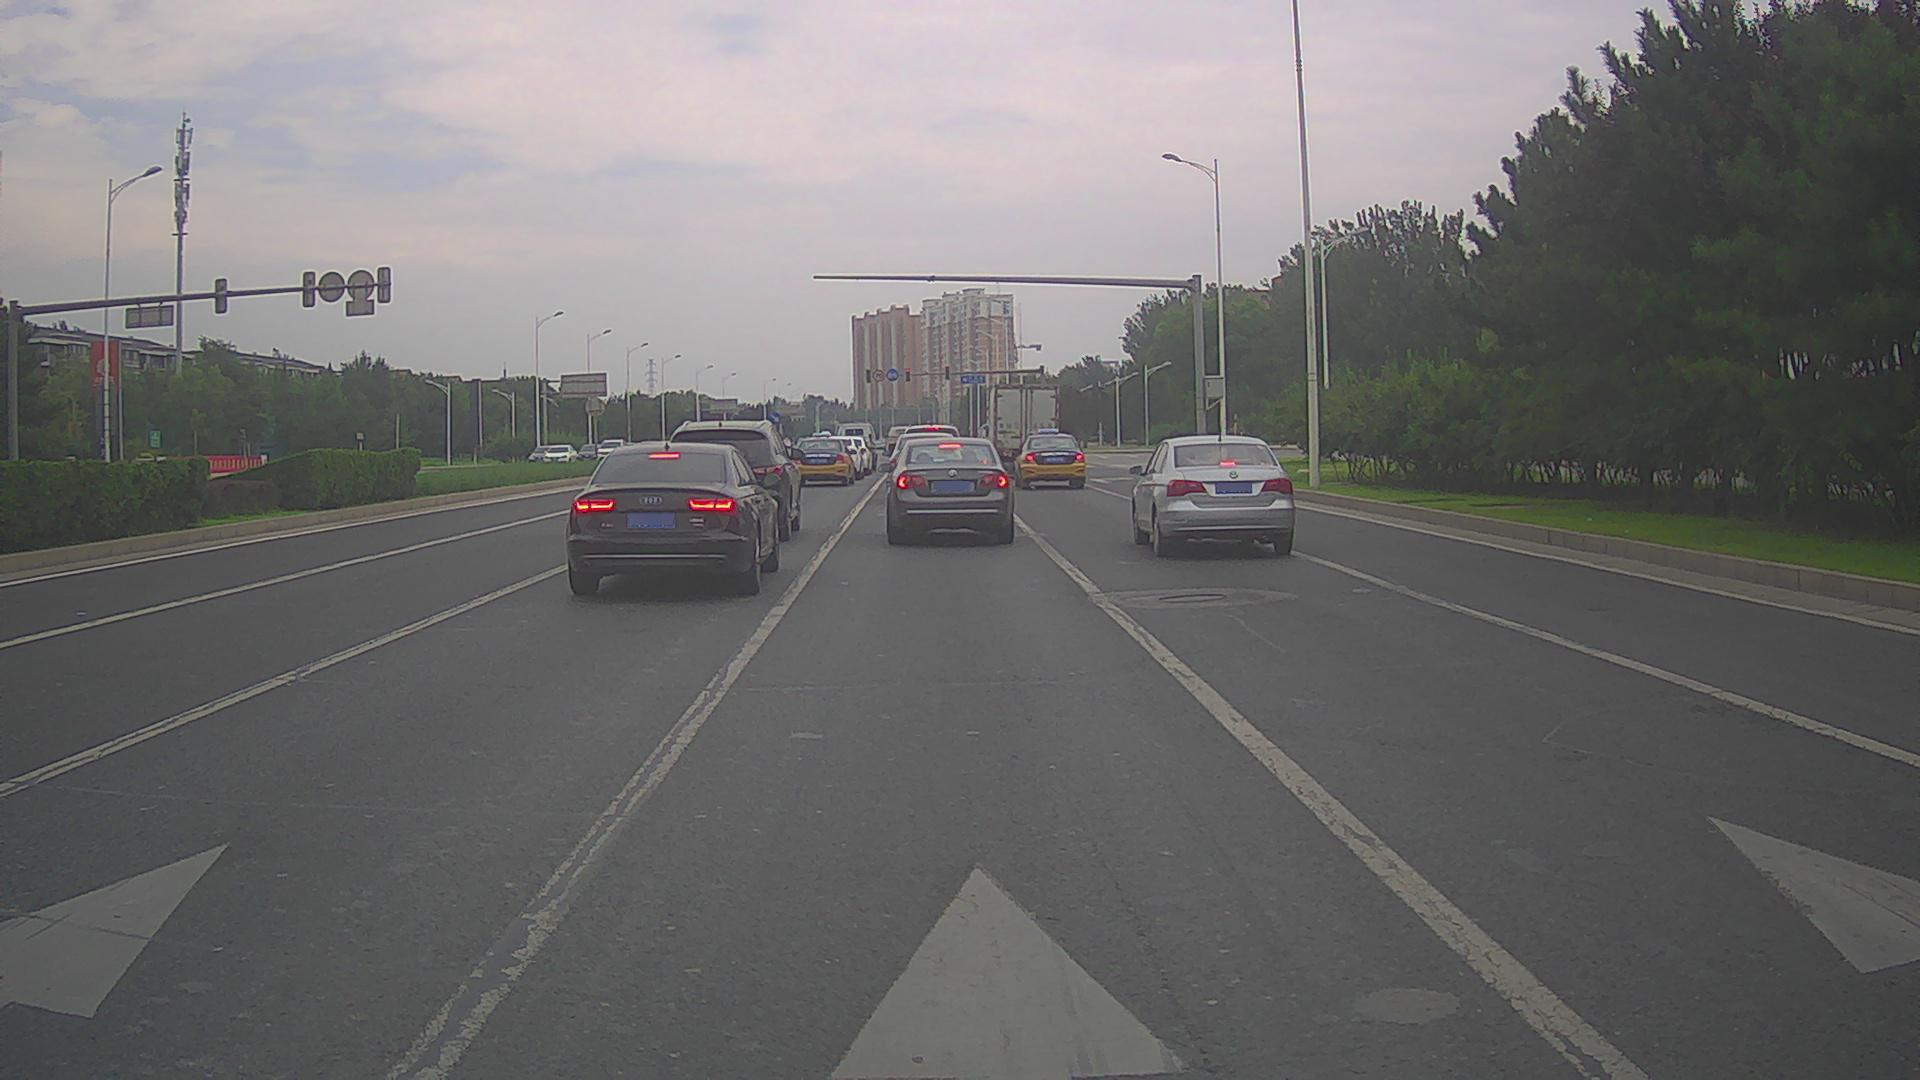car: (564, 443, 781, 595), (1127, 436, 1294, 554), (666, 418, 804, 541), (877, 436, 1013, 545), (1013, 429, 1085, 489), (793, 433, 856, 487), (542, 444, 578, 465), (597, 438, 626, 462), (527, 444, 553, 465), (578, 444, 601, 464), (872, 438, 886, 450)
ignore: (889, 423, 960, 472), (837, 435, 873, 479), (131, 451, 154, 464)
truck: (984, 385, 1062, 481), (833, 423, 880, 472), (884, 425, 916, 455)
